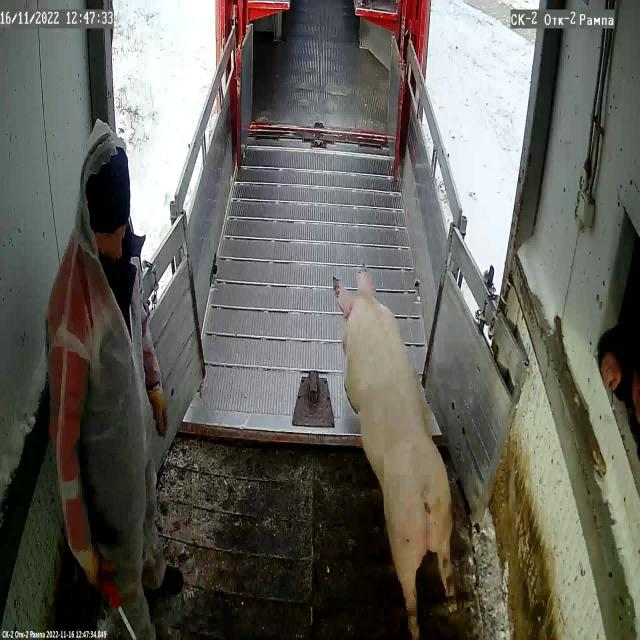pig: (333, 272, 454, 640)
